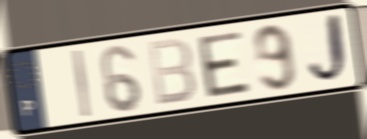6: (98, 42, 144, 116)
9: (252, 22, 298, 94)
B: (145, 35, 198, 109)
E: (194, 28, 252, 101)
I: (70, 47, 93, 120)
J: (305, 10, 351, 88)
